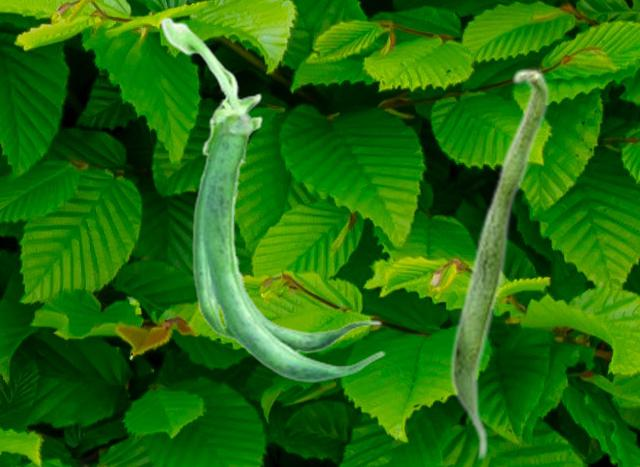french_bean: (159, 16, 384, 382), (449, 67, 549, 461)
